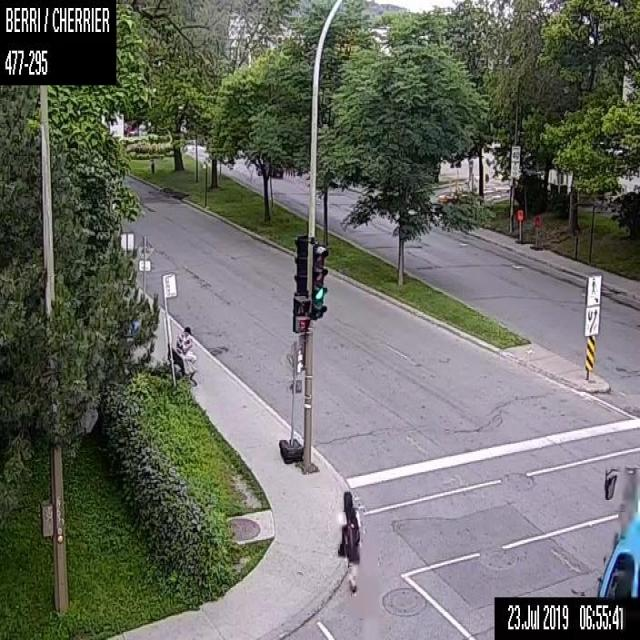bus: (596, 465, 639, 596)
construction: (530, 213, 541, 251), (515, 210, 523, 246)
pedestrian: (335, 489, 362, 594), (176, 324, 196, 364)
